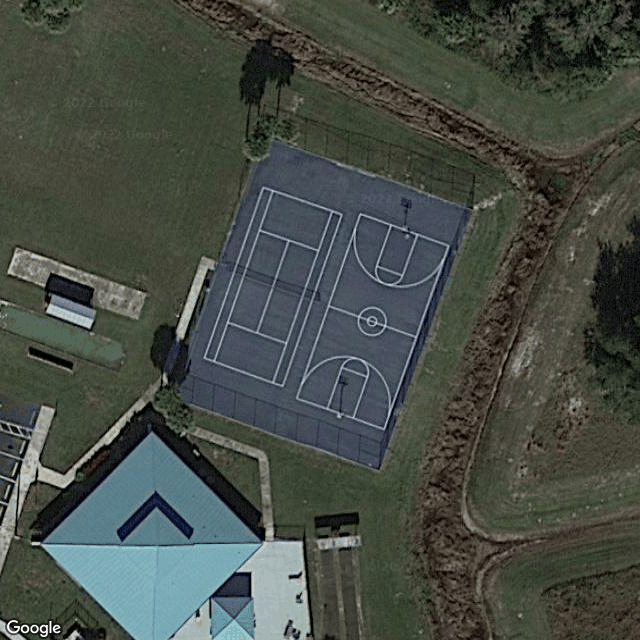Court: (201, 186, 343, 386)
